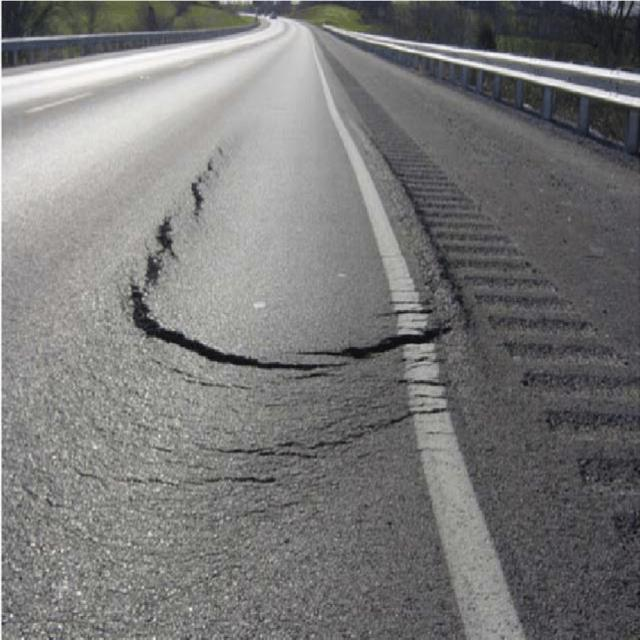Pothole: (333, 6, 639, 640)
